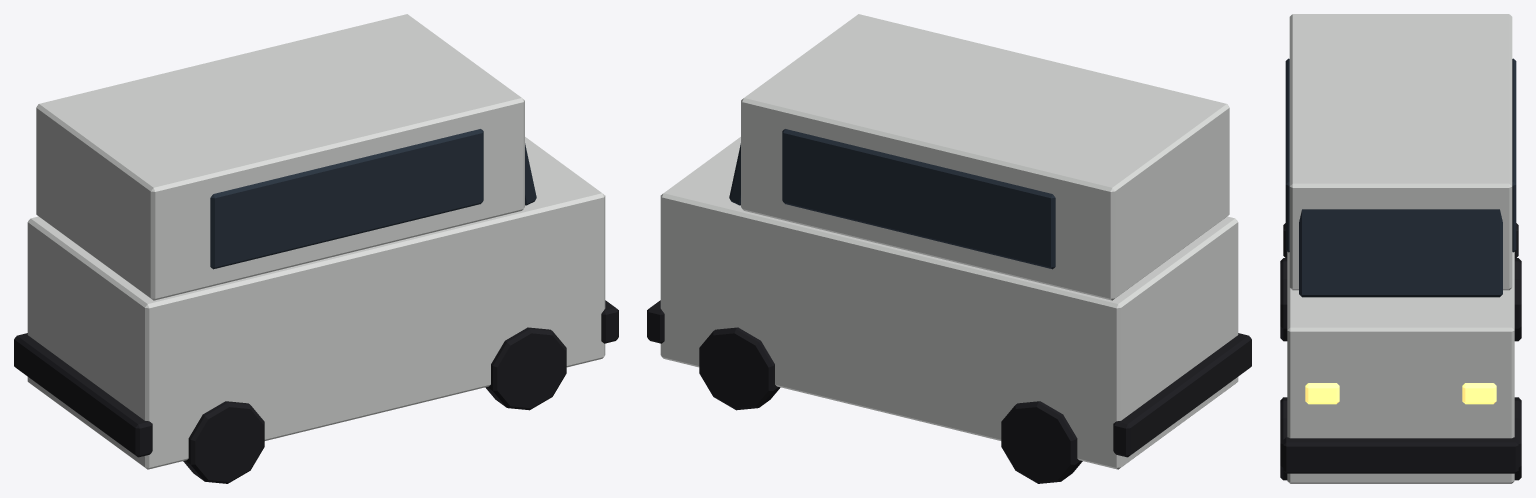
Rendered from keibil.glb.
3 views of the same model, side by side, from view 1: azimuth 30°, elevation 25°; view 2: azimuth 150°, elevation 25°; view 3: azimuth 270°, elevation 25° (orthographic). The views are drawn at different scales.
Visible parts, largest first — view 1: keibil; view 2: keibil; view 3: keibil.
Boxes of the visible parts, bbox=[...] form: keibil: bbox=[14, 14, 618, 483]; keibil: bbox=[647, 14, 1251, 483]; keibil: bbox=[1280, 14, 1521, 483].
Bounding box in the file's own units: 3.36 × 2.05 × 1.54.
